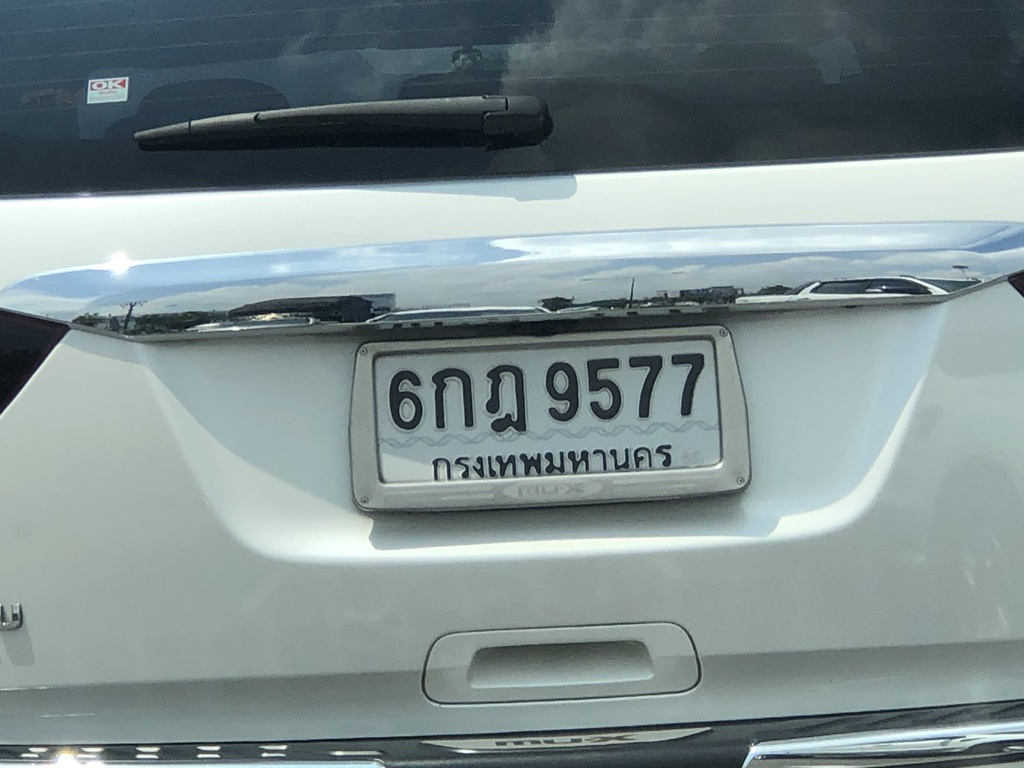five: (580, 354, 632, 430)
nine: (534, 354, 585, 437)
seven: (663, 342, 720, 433), (621, 352, 672, 430)
six: (382, 359, 429, 437)
